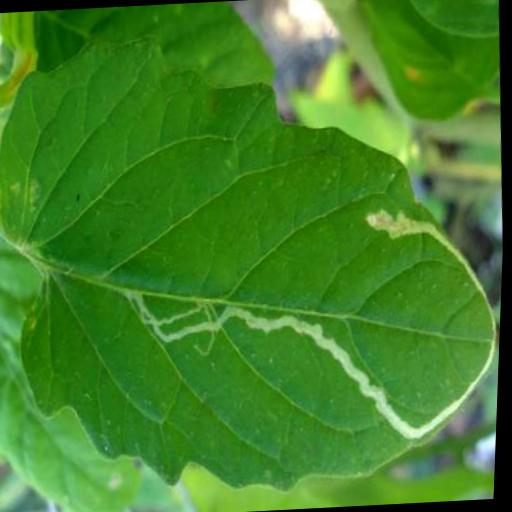Leaf_Miner: (0, 14, 512, 509)
